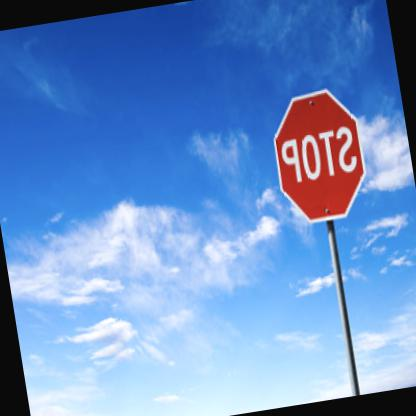stop: (264, 77, 376, 227)
